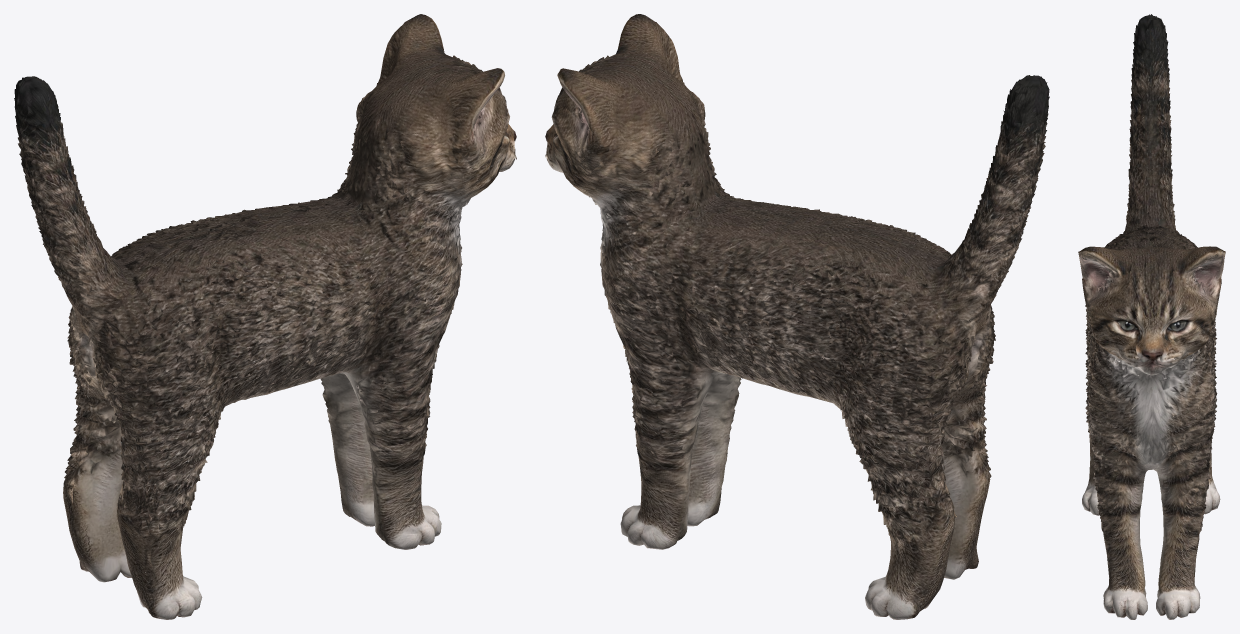
The model's file is MILKBELLY.glb.
3 views of the same model, side by side, from view 1: azimuth 30°, elevation 25°; view 2: azimuth 150°, elevation 25°; view 3: azimuth 270°, elevation 25° (orthographic). The views are drawn at different scales.
Parts seen in each view (by area): view 1: tripo_node_63c655f1-4519-4e83-af66-48e1420160f9; view 2: tripo_node_63c655f1-4519-4e83-af66-48e1420160f9; view 3: tripo_node_63c655f1-4519-4e83-af66-48e1420160f9.
Part boxes in pixels (x1,y1,x2,y2): tripo_node_63c655f1-4519-4e83-af66-48e1420160f9: (14,14,516,619); tripo_node_63c655f1-4519-4e83-af66-48e1420160f9: (545,14,1049,619); tripo_node_63c655f1-4519-4e83-af66-48e1420160f9: (1078,14,1225,619).
Bounding box in the file's own units: 0.9663 × 0.9996 × 0.2981.
1 material, 1 textured.
